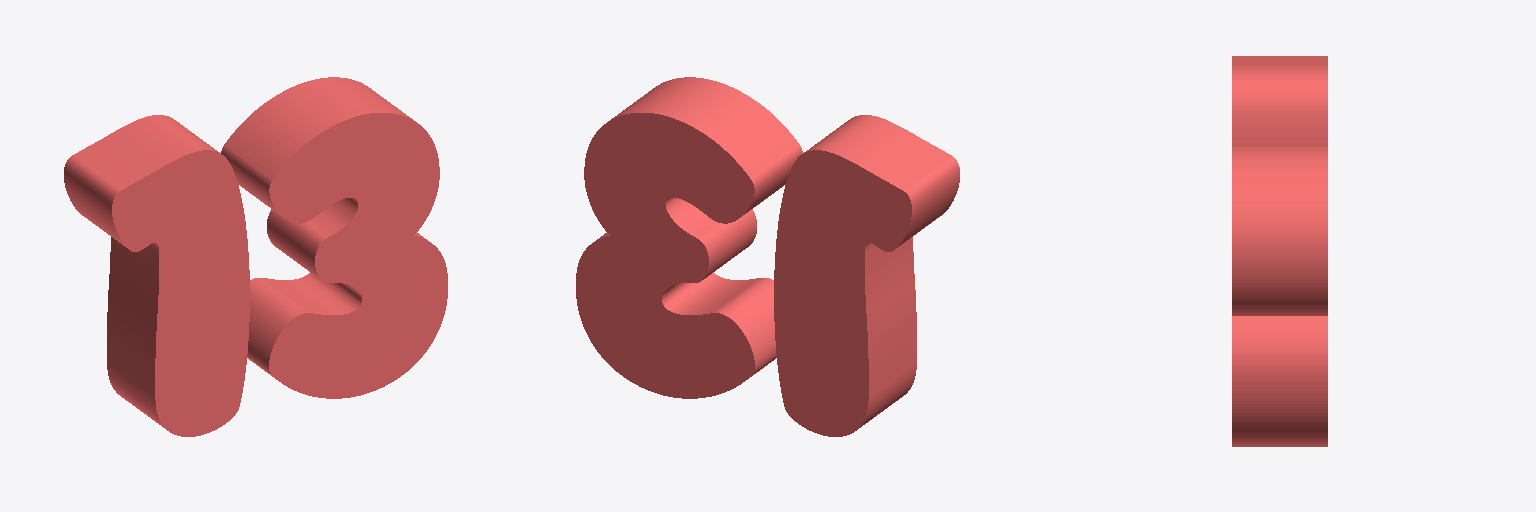
Rendered from Number13.obj.
3 renders of one model, left to right at view 1: azimuth 30°, elevation 25°; view 2: azimuth 150°, elevation 25°; view 3: azimuth 270°, elevation 25°, orthographic.
Visible parts, largest first — view 1: Text; view 2: Text; view 3: Text.
Part boxes in pixels (x1,y1,x2,y2): Text: (64, 77, 447, 436); Text: (576, 77, 959, 436); Text: (1232, 56, 1327, 446).
Size of the model in its own units: 0.7235 by 0.5856 by 0.18.